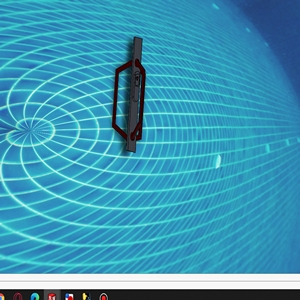submarine: (113, 37, 150, 155)
